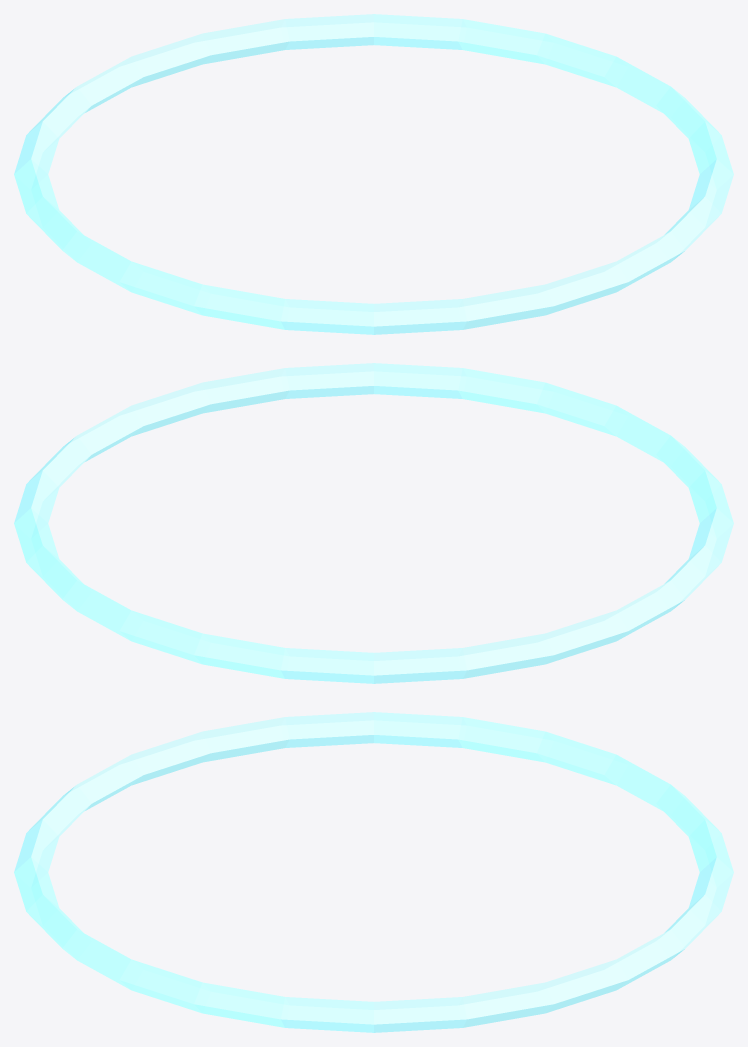
The model's file is ripple_ring.glb.
3 renders of one model, top to bottom at view 1: azimuth 30°, elevation 25°; view 2: azimuth 150°, elevation 25°; view 3: azimuth 270°, elevation 25°, orthographic.
Parts seen in each view (by area): view 1: ripple_ring; view 2: ripple_ring; view 3: ripple_ring.
Boxes of the visible parts, <box> form: ripple_ring: <box>14,14,733,334</box>; ripple_ring: <box>14,363,733,683</box>; ripple_ring: <box>14,712,733,1032</box>.
Size of the model in its own units: 0.252 by 0.012 by 0.252.
